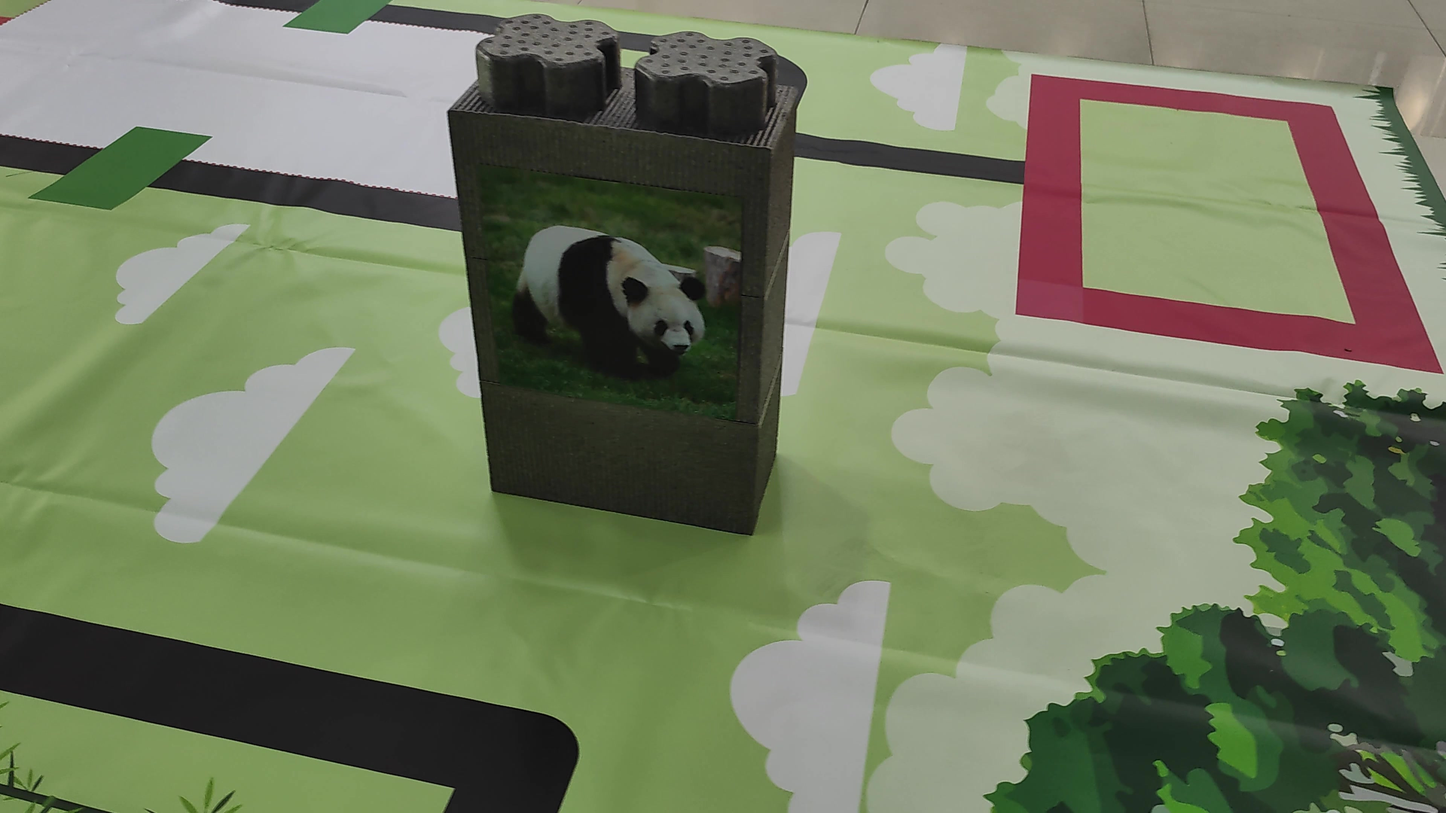panda: (499, 201, 735, 387)
